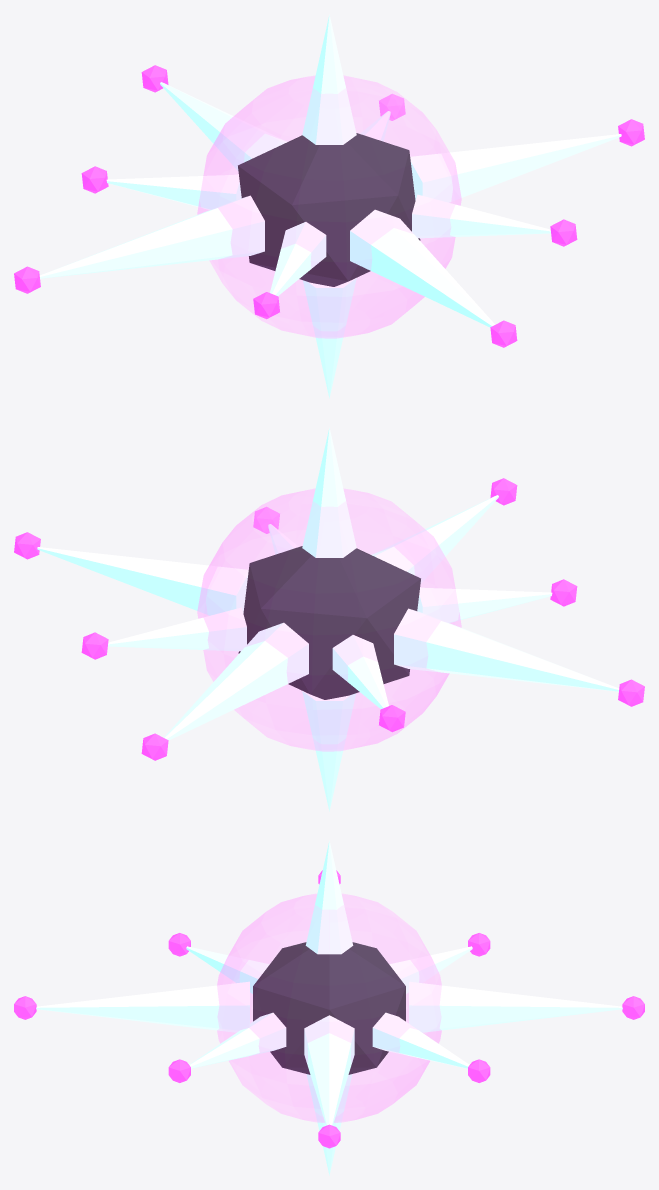
Rendered from enemy_shard.glb.
3 renders of one model, top to bottom at view 1: azimuth 30°, elevation 25°; view 2: azimuth 150°, elevation 25°; view 3: azimuth 270°, elevation 25°, orthographic. The views are drawn at different scales.
Parts seen in each view (by area): view 1: enemy_shard; view 2: enemy_shard; view 3: enemy_shard.
Part boxes in pixels (box(x1,y1,x2,y2)): enemy_shard: box(14, 14, 644, 398); enemy_shard: box(14, 427, 644, 811); enemy_shard: box(14, 840, 644, 1175).
Bounding box in the file's own units: 2.39 × 1.4 × 2.39.
